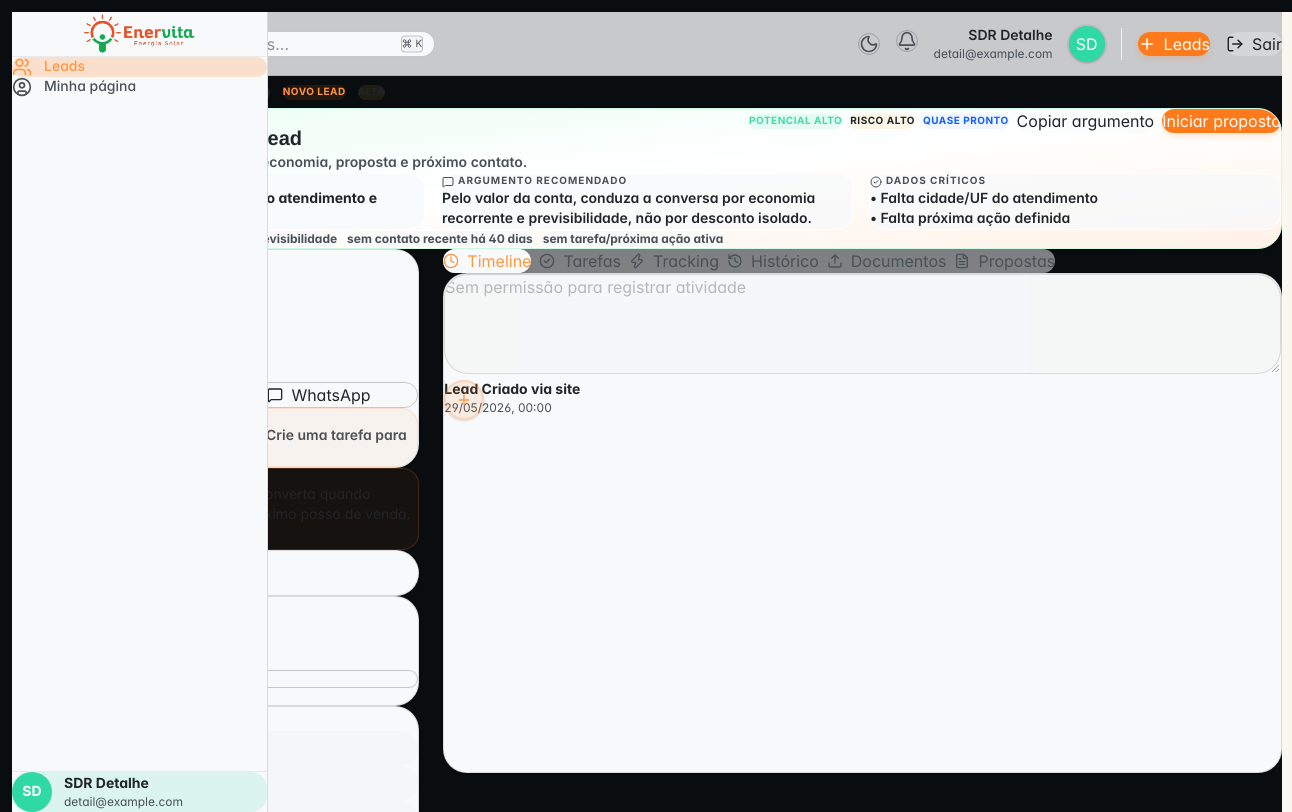
Test: Lead detail history tab › renders system-generated history entries without an actor instead of breaking lead opening
Expected: the heading "Lead com Histórico" is shown, x1=48 y1=76 x2=271 y2=108
What coordinates should you click on to do the following:
click the button "Histórico"
I would click on:
 (773, 261)
Its box is x1=727 y1=249 x2=819 y2=273.
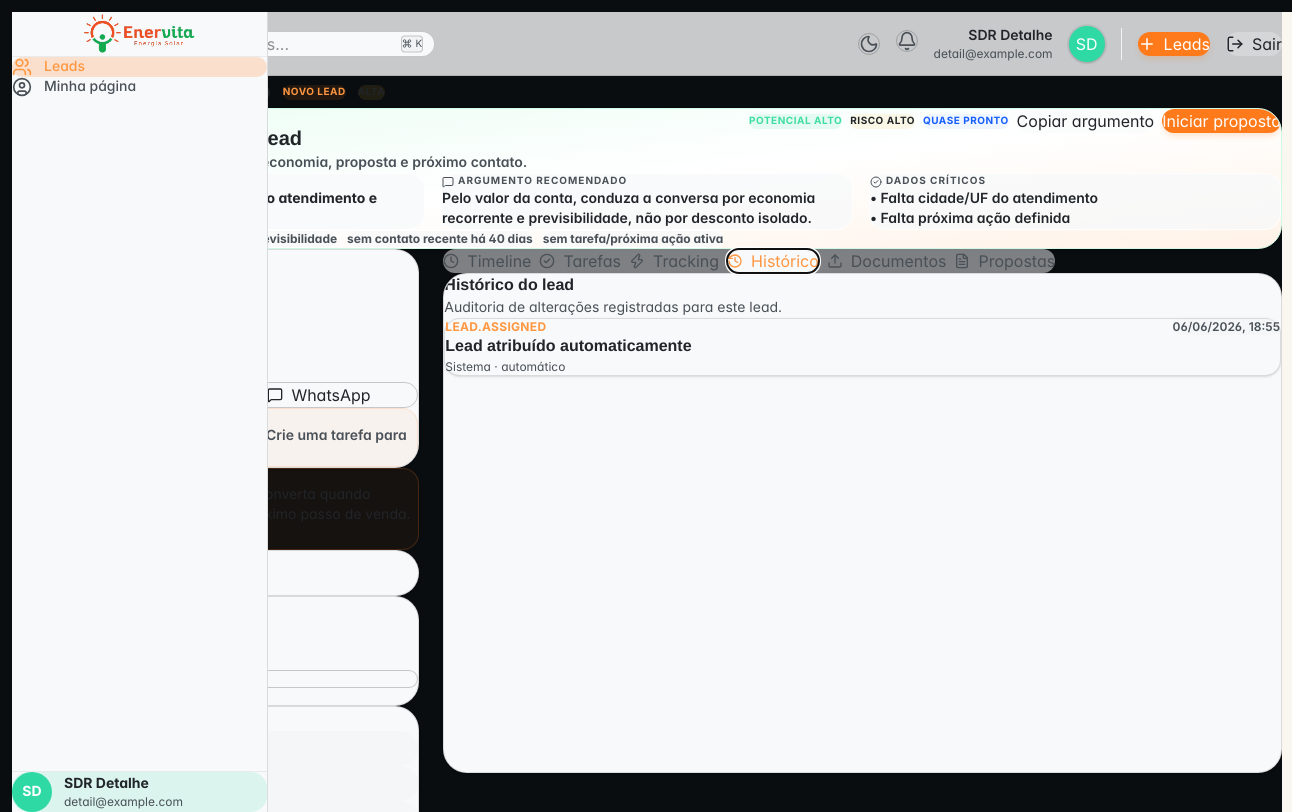
Expected: the heading "Lead atribuído automaticamente" is shown, x1=445 y1=335 x2=692 y2=359
Expected: the text "Sistema · automático" is shown, x1=445 y1=359 x2=565 y2=374
